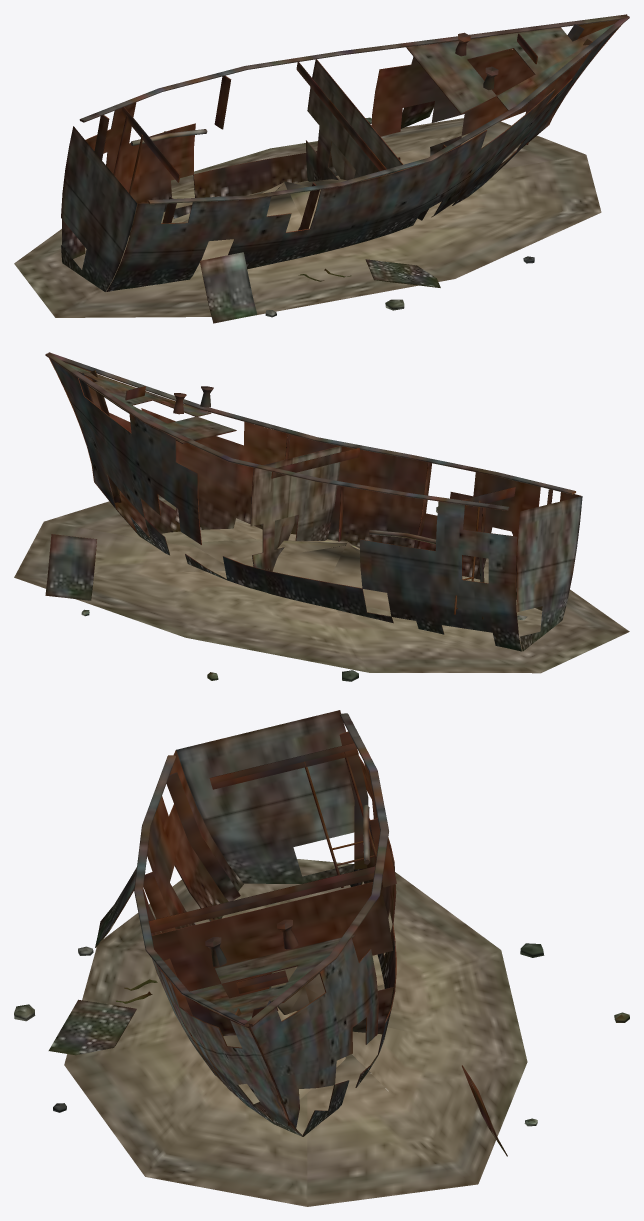
The model's file is kit_relic_hull_live.glb.
3 views of the same model, one above another, from view 1: azimuth 30°, elevation 25°; view 2: azimuth 150°, elevation 25°; view 3: azimuth 270°, elevation 25° (orthographic). The views are drawn at different scales.
Parts seen in each view (by area): view 1: hull, body, plate_1, plate_2, plate_3, hatch; view 2: hull, body, plate_3, hatch; view 3: hull, body, plate_2, hatch, plate_1.
Part boxes in pixels (x1=…): hull: x1=61, y1=14, x2=629, y2=291; body: x1=14, y1=117, x2=601, y2=317; plate_1: x1=199, y1=252, x2=257, y2=323; plate_2: x1=365, y1=259, x2=440, y2=287; plate_3: x1=401, y1=101, x2=434, y2=128; hatch: x1=330, y1=141, x2=355, y2=180; hull: x1=45, y1=352, x2=582, y2=651; body: x1=14, y1=495, x2=629, y2=681; plate_3: x1=45, y1=534, x2=96, y2=600; hatch: x1=274, y1=516, x2=294, y2=549; hull: x1=134, y1=710, x2=396, y2=1136; body: x1=14, y1=859, x2=629, y2=1206; plate_2: x1=48, y1=999, x2=136, y2=1055; hatch: x1=269, y1=966, x2=325, y2=1014; plate_1: x1=95, y1=867, x2=136, y2=947.
Size of what is drawn, in the model's own units: 11.74 by 3.42 by 8.31.
Materials: 2 (2 with a texture image).
